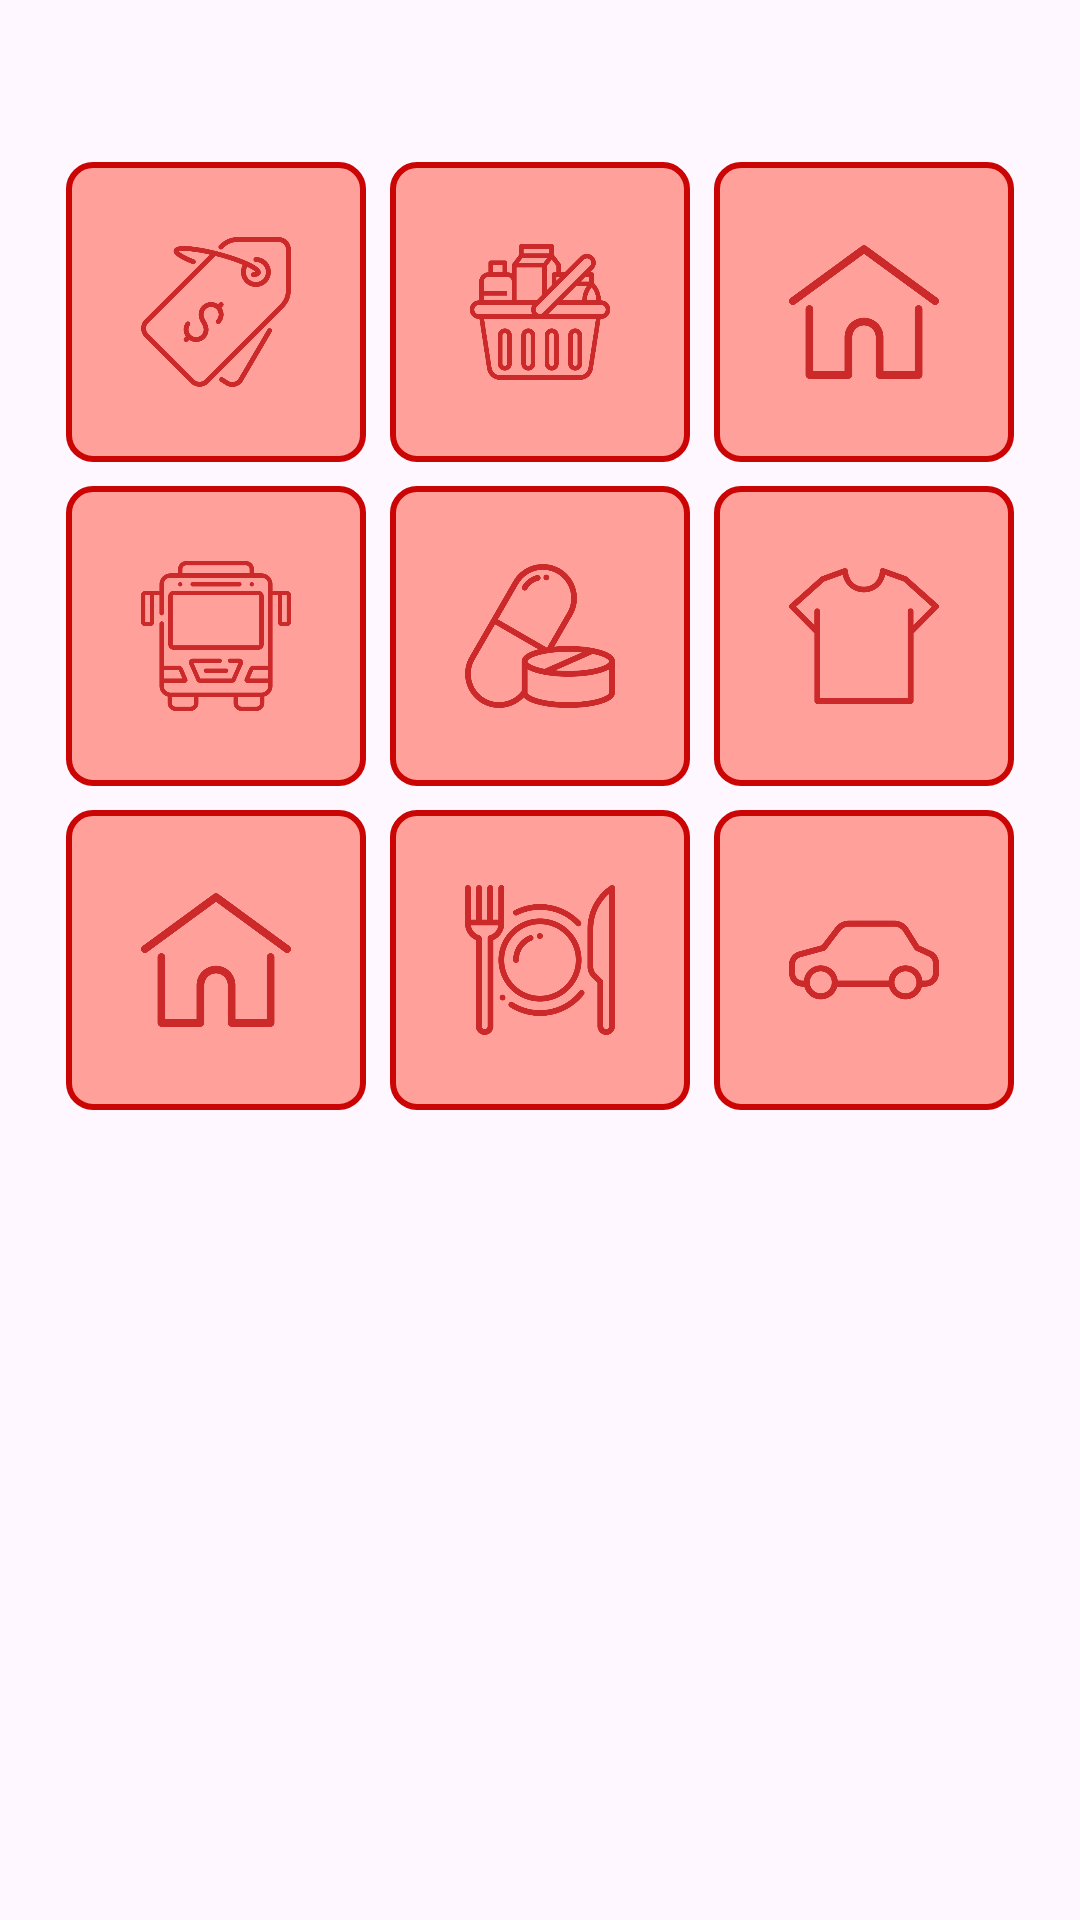

Point at icon controls on the screen. Image size 1080×1920, points as point (x, y).
bills: point (216, 312)
car: point (864, 960)
clothes: point (864, 636)
eating out: point (540, 960)
food: point (540, 312)
health: point (540, 636)
house: point (864, 312), point (216, 960)
transport: point (216, 636)
